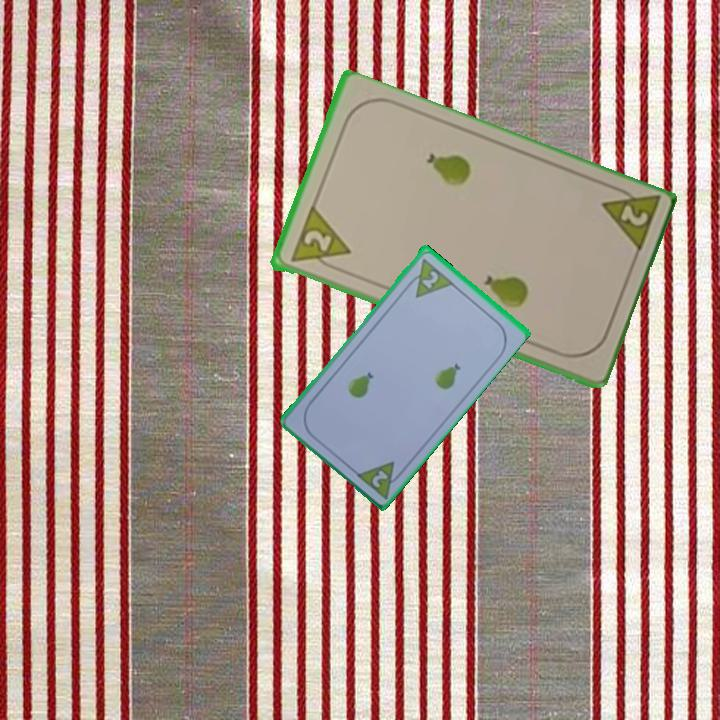2p: (597, 180, 663, 258), (286, 205, 353, 276), (352, 457, 408, 501), (402, 254, 455, 300)
